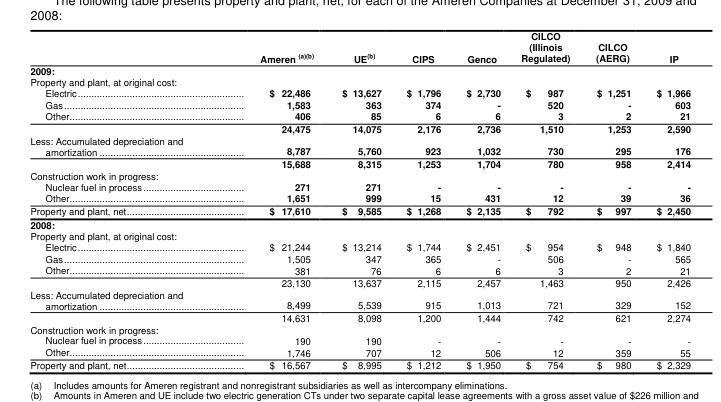table: (29, 29, 690, 371)
table column: (29, 29, 220, 371), (220, 29, 327, 371), (510, 29, 582, 371), (327, 29, 393, 371), (582, 29, 643, 371), (393, 29, 452, 371), (452, 29, 510, 371), (643, 29, 690, 371)
table column header: (29, 29, 690, 64)
table projected row header: (29, 217, 690, 229), (29, 64, 690, 75), (29, 75, 690, 86), (29, 169, 690, 180), (29, 229, 690, 240), (29, 323, 690, 334)
table row: (29, 29, 690, 64), (29, 134, 690, 157), (29, 288, 690, 311), (29, 109, 690, 122), (29, 191, 690, 204), (29, 204, 690, 217), (29, 263, 690, 276), (29, 345, 690, 358), (29, 358, 690, 371), (29, 86, 690, 98), (29, 122, 690, 134), (29, 157, 690, 169), (29, 217, 690, 229), (29, 240, 690, 252), (29, 276, 690, 288), (29, 311, 690, 323), (29, 64, 690, 75), (29, 75, 690, 86), (29, 98, 690, 109), (29, 169, 690, 180), (29, 180, 690, 191), (29, 229, 690, 240), (29, 252, 690, 263), (29, 323, 690, 334), (29, 334, 690, 345)
